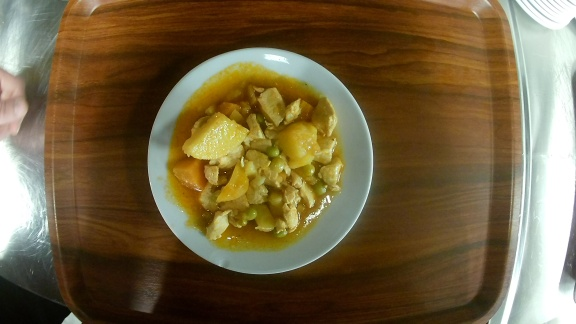bezelyelitavuk: (146, 46, 375, 277)
